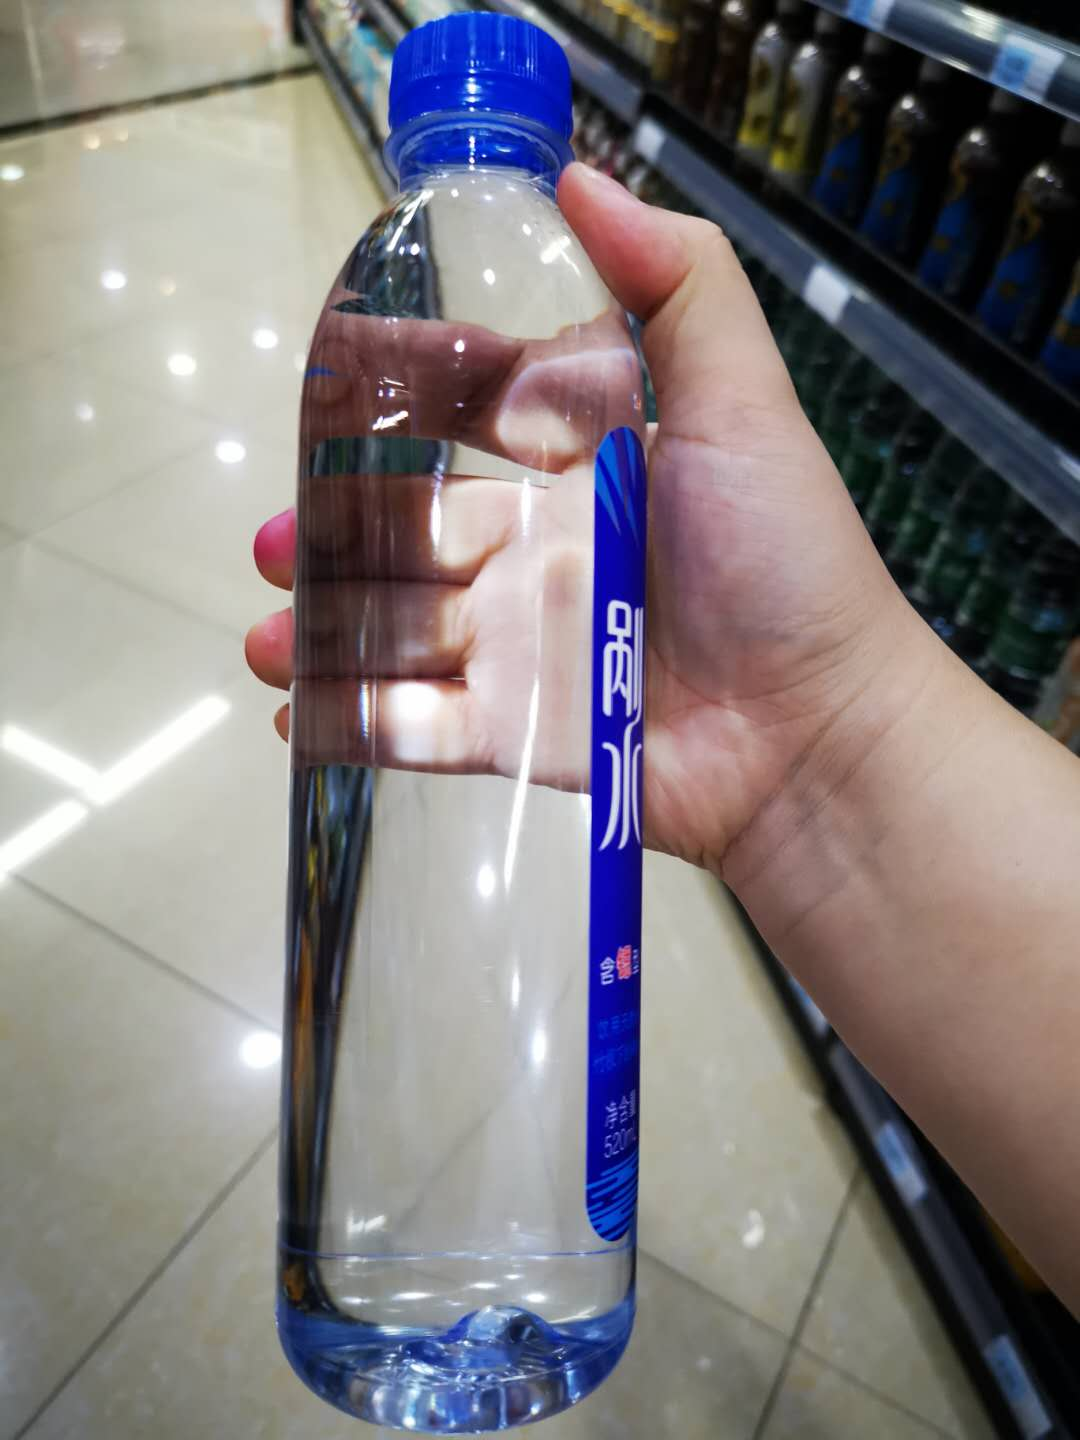其他: (246, 26, 670, 1408)
